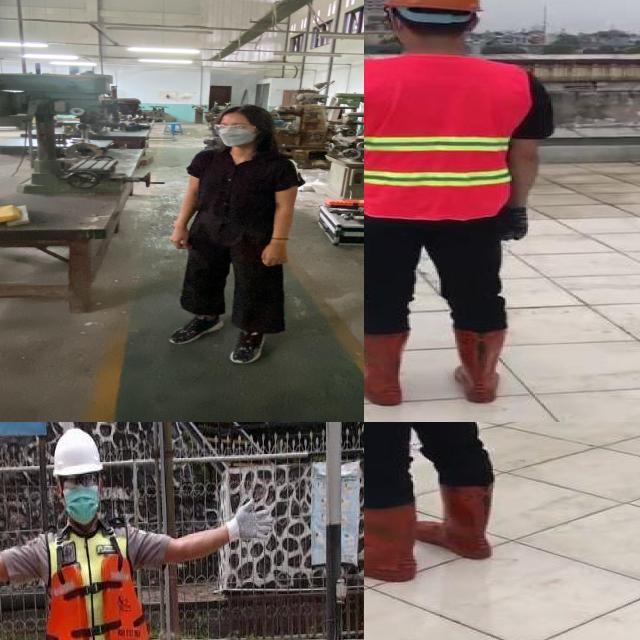boots: (415, 482, 498, 562), (364, 495, 420, 582), (450, 329, 508, 407), (364, 329, 408, 407)
face_mask: (207, 121, 260, 146)
glasses: (205, 124, 261, 134)
hand_glove: (499, 210, 535, 240)
hand_noglove: (255, 244, 294, 268), (165, 228, 192, 248)
head_helmet: (51, 426, 104, 478), (378, 0, 485, 16)
head_nohelmet: (213, 102, 269, 122)
person: (364, 0, 557, 411), (0, 422, 300, 640), (159, 101, 309, 368), (364, 422, 520, 587)
shoes: (165, 312, 232, 348), (222, 326, 275, 367)
vest: (364, 53, 527, 216), (43, 525, 148, 640)
